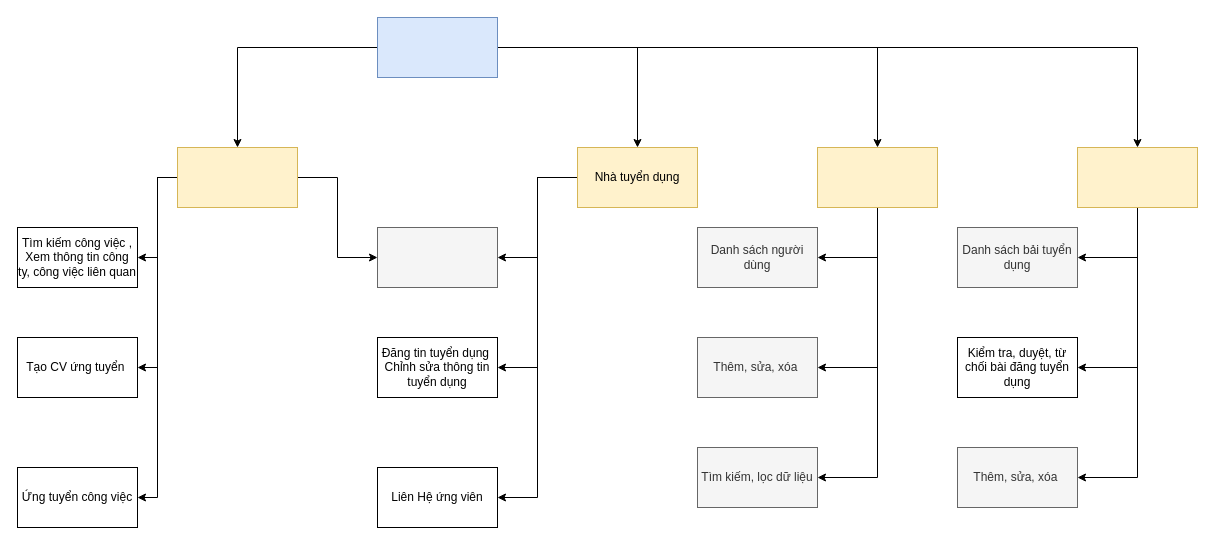
Image size: 1215x545. Some labels were removed from this diagram. The centre of each missing label's shape, as x and y in pixels:
Người Tìm việc: the point at 237,177
Quản trị bài viết tuyển dụng: the point at 1137,177
Quản trị hệ thống: the point at 437,47
Quản trị người dùng: the point at 877,177
Đăng ký tài khoản Thêm, sửa, xóa thông tin cá nhân: the point at 437,257
